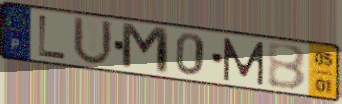0: (174, 31, 207, 78)
B: (266, 42, 309, 93)
L: (36, 13, 70, 61)
M: (119, 21, 172, 78), (221, 36, 266, 87)
U: (71, 14, 116, 68)
